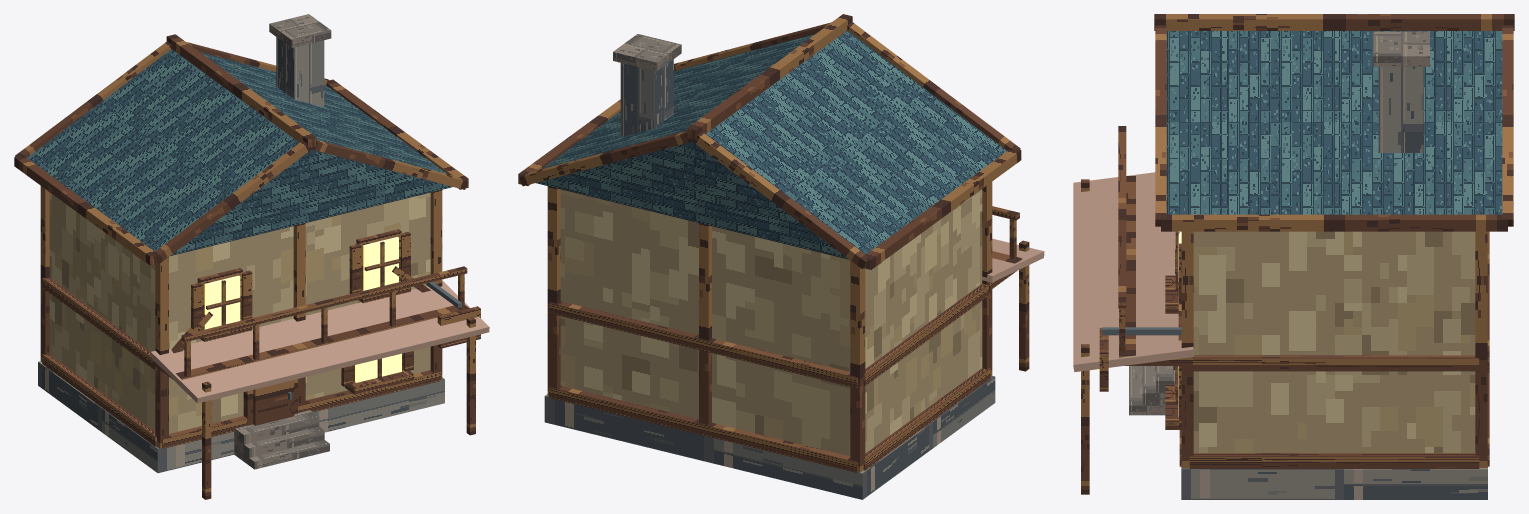
File: inn.glb
3 renders of one model, left to right at view 1: azimuth 30°, elevation 25°; view 2: azimuth 150°, elevation 25°; view 3: azimuth 270°, elevation 25°, orthographic. The views are drawn at different scales.
Parts seen in each view (by area): view 1: inn_roof, inn_wood, inn_plaster, inn_canvas, inn_brick, inn_stone, inn_glass; view 2: inn_plaster, inn_roof, inn_wood, inn_brick, inn_stone, inn_canvas; view 3: inn_plaster, inn_roof, inn_wood, inn_canvas, inn_brick, inn_stone, inn_iron.
Boxes of the visible parts, x1=… form: inn_roof: x1=27, y1=49, x2=452, y2=255; inn_wood: x1=14, y1=34, x2=480, y2=499; inn_plaster: x1=49, y1=192, x2=430, y2=433; inn_canvas: x1=150, y1=280, x2=489, y2=403; inn_brick: x1=38, y1=37, x2=444, y2=473; inn_stone: x1=234, y1=14, x2=331, y2=469; inn_glass: x1=204, y1=237, x2=401, y2=382; inn_plaster: x1=560, y1=189, x2=982, y2=456; inn_roof: x1=536, y1=30, x2=1006, y2=259; inn_wood: x1=518, y1=14, x2=1029, y2=472; inn_brick: x1=544, y1=59, x2=995, y2=499; inn_stone: x1=613, y1=34, x2=681, y2=71; inn_canvas: x1=982, y1=238, x2=1044, y2=282; inn_plaster: x1=1193, y1=231, x2=1475, y2=452; inn_roof: x1=1166, y1=31, x2=1502, y2=214; inn_wood: x1=1081, y1=14, x2=1514, y2=494; inn_canvas: x1=1073, y1=172, x2=1194, y2=372; inn_brick: x1=1181, y1=66, x2=1487, y2=499; inn_stone: x1=1129, y1=31, x2=1429, y2=415; inn_iron: x1=1102, y1=327, x2=1181, y2=335.
Size of the model in its own units: 6.99 by 6.87 by 6.55.
8 materials, 5 textured.
